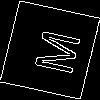M: (24, 25, 81, 77)
